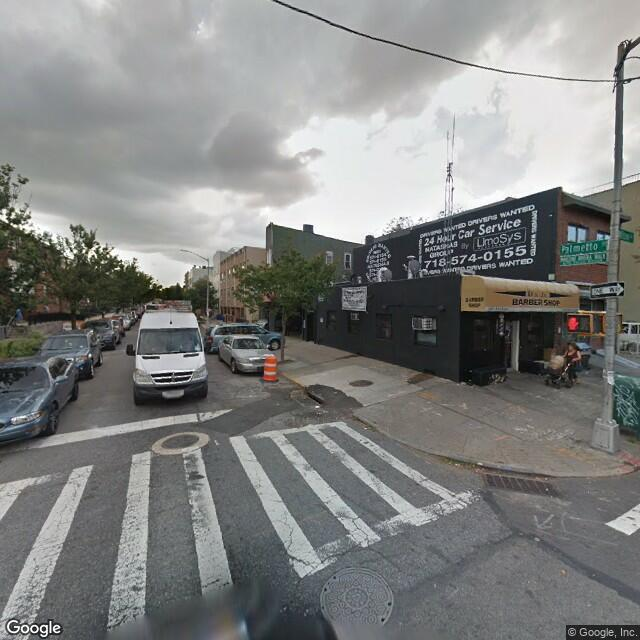litter: (540, 486, 551, 500), (448, 459, 458, 469), (312, 403, 321, 411), (362, 425, 370, 433), (475, 461, 485, 467)
